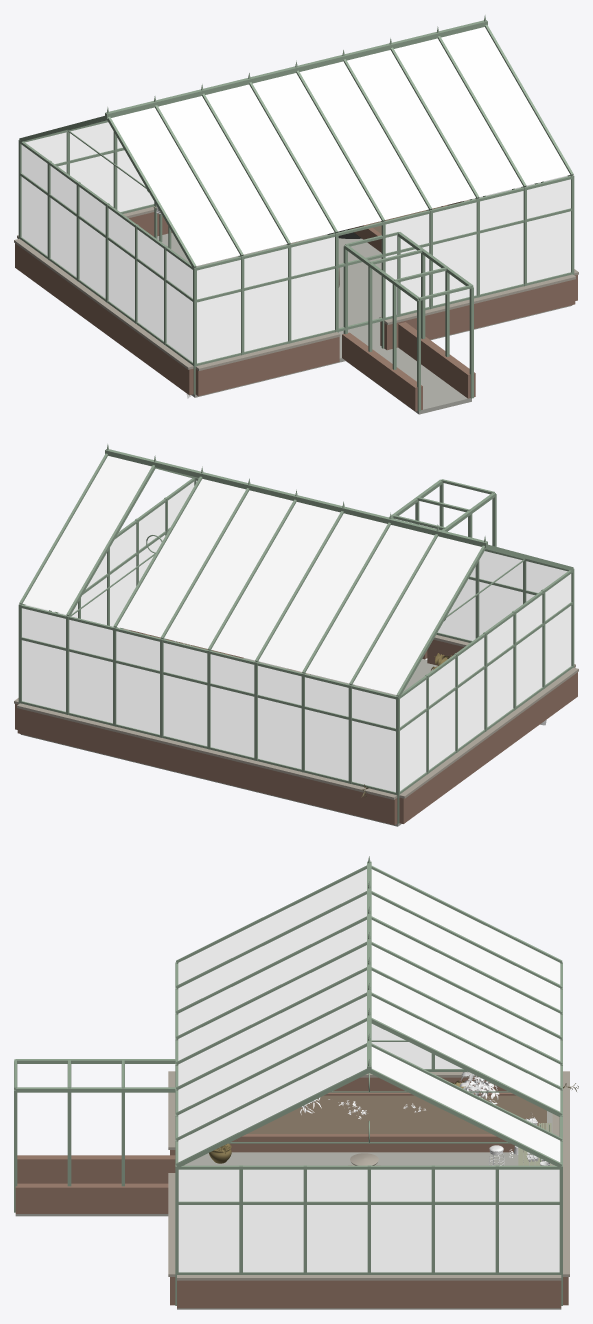
File: conservatory.glb
3 views of the same model, one above another, from view 1: azimuth 30°, elevation 25°; view 2: azimuth 150°, elevation 25°; view 3: azimuth 270°, elevation 25° (orthographic). The views are drawn at different scales.
Parts seen in each view (by area): view 1: ROOM__conservatory; view 2: ROOM__conservatory; view 3: ROOM__conservatory, pachira_aquatica_01_leaves_d.
Boxes of the visible parts, box(x1,y1,x2,y2) form: ROOM__conservatory: box(14, 15, 578, 414); ROOM__conservatory: box(14, 444, 578, 826); ROOM__conservatory: box(14, 856, 569, 1309); pachira_aquatica_01_leaves_d: box(459, 1071, 499, 1104).
Bounding box in the file's own units: 10.36 × 6.18 × 11.76.
